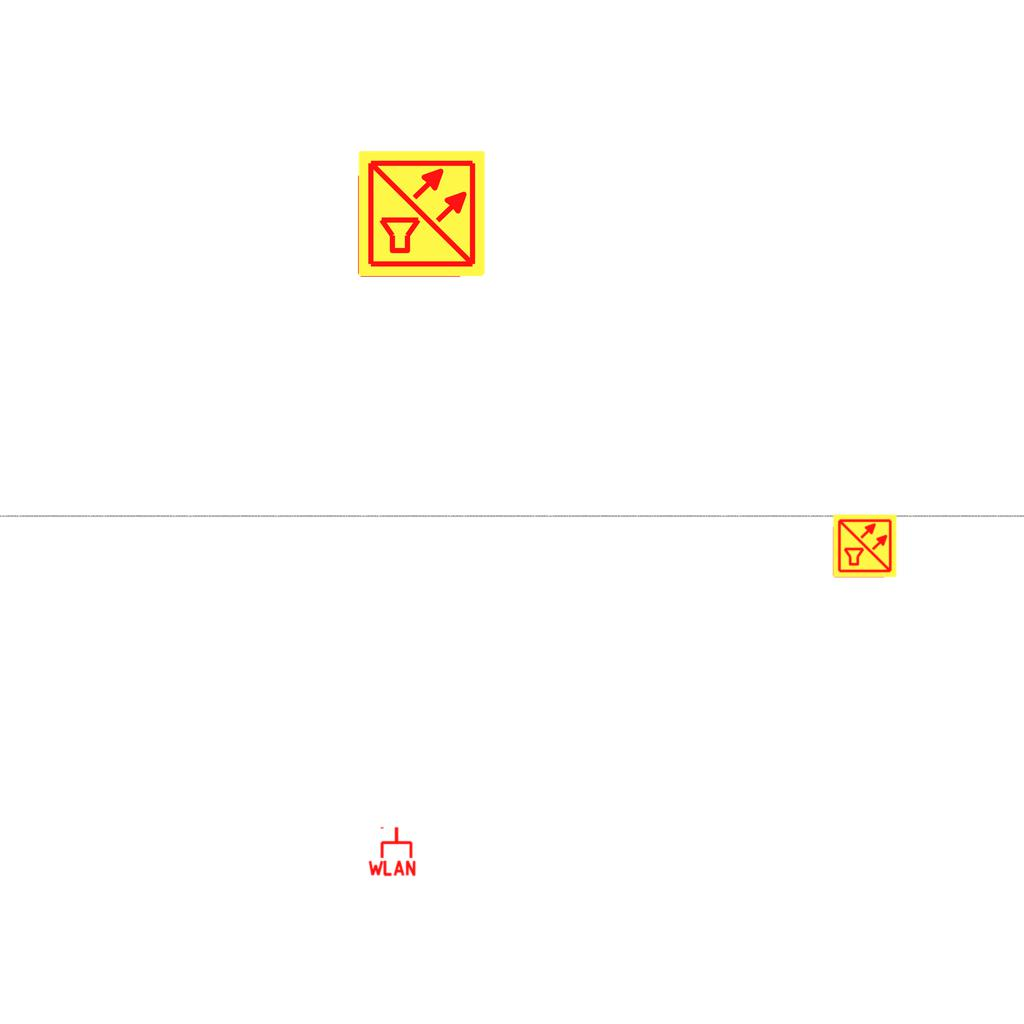OKW_Multisensormelder_(Kombination_optischer_Rauch-Kahlenmonoxid_Waerme-Melder): (356, 148, 488, 280), (832, 513, 898, 579)
WLAN: (366, 825, 418, 877)
